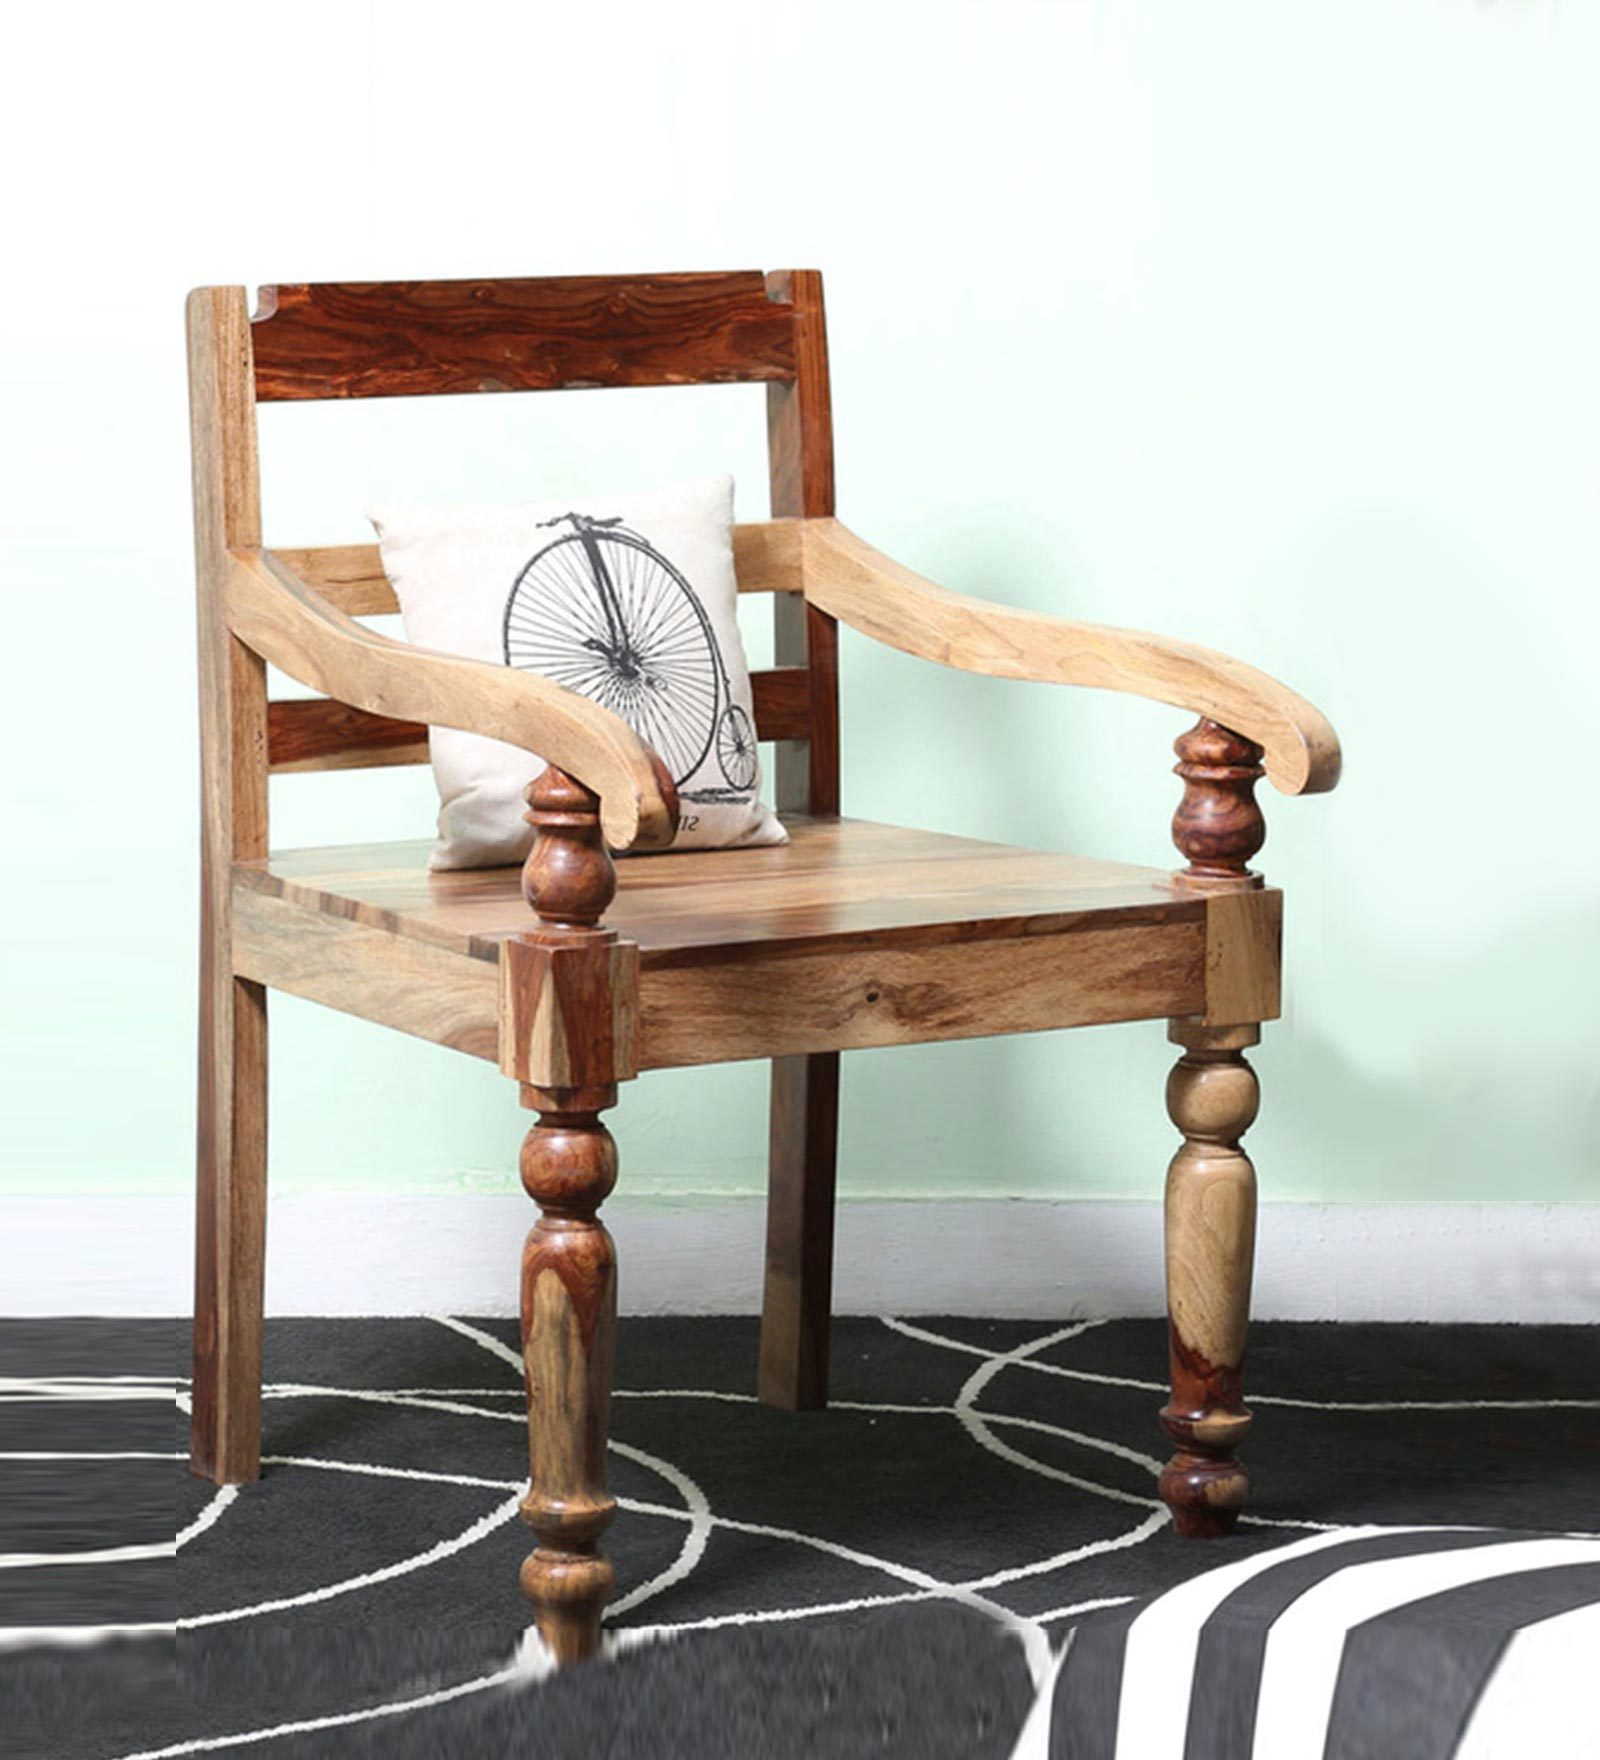Maud Arm Chair in Natural Sheesham Finish by Amberville: (175, 267, 1333, 1666)
